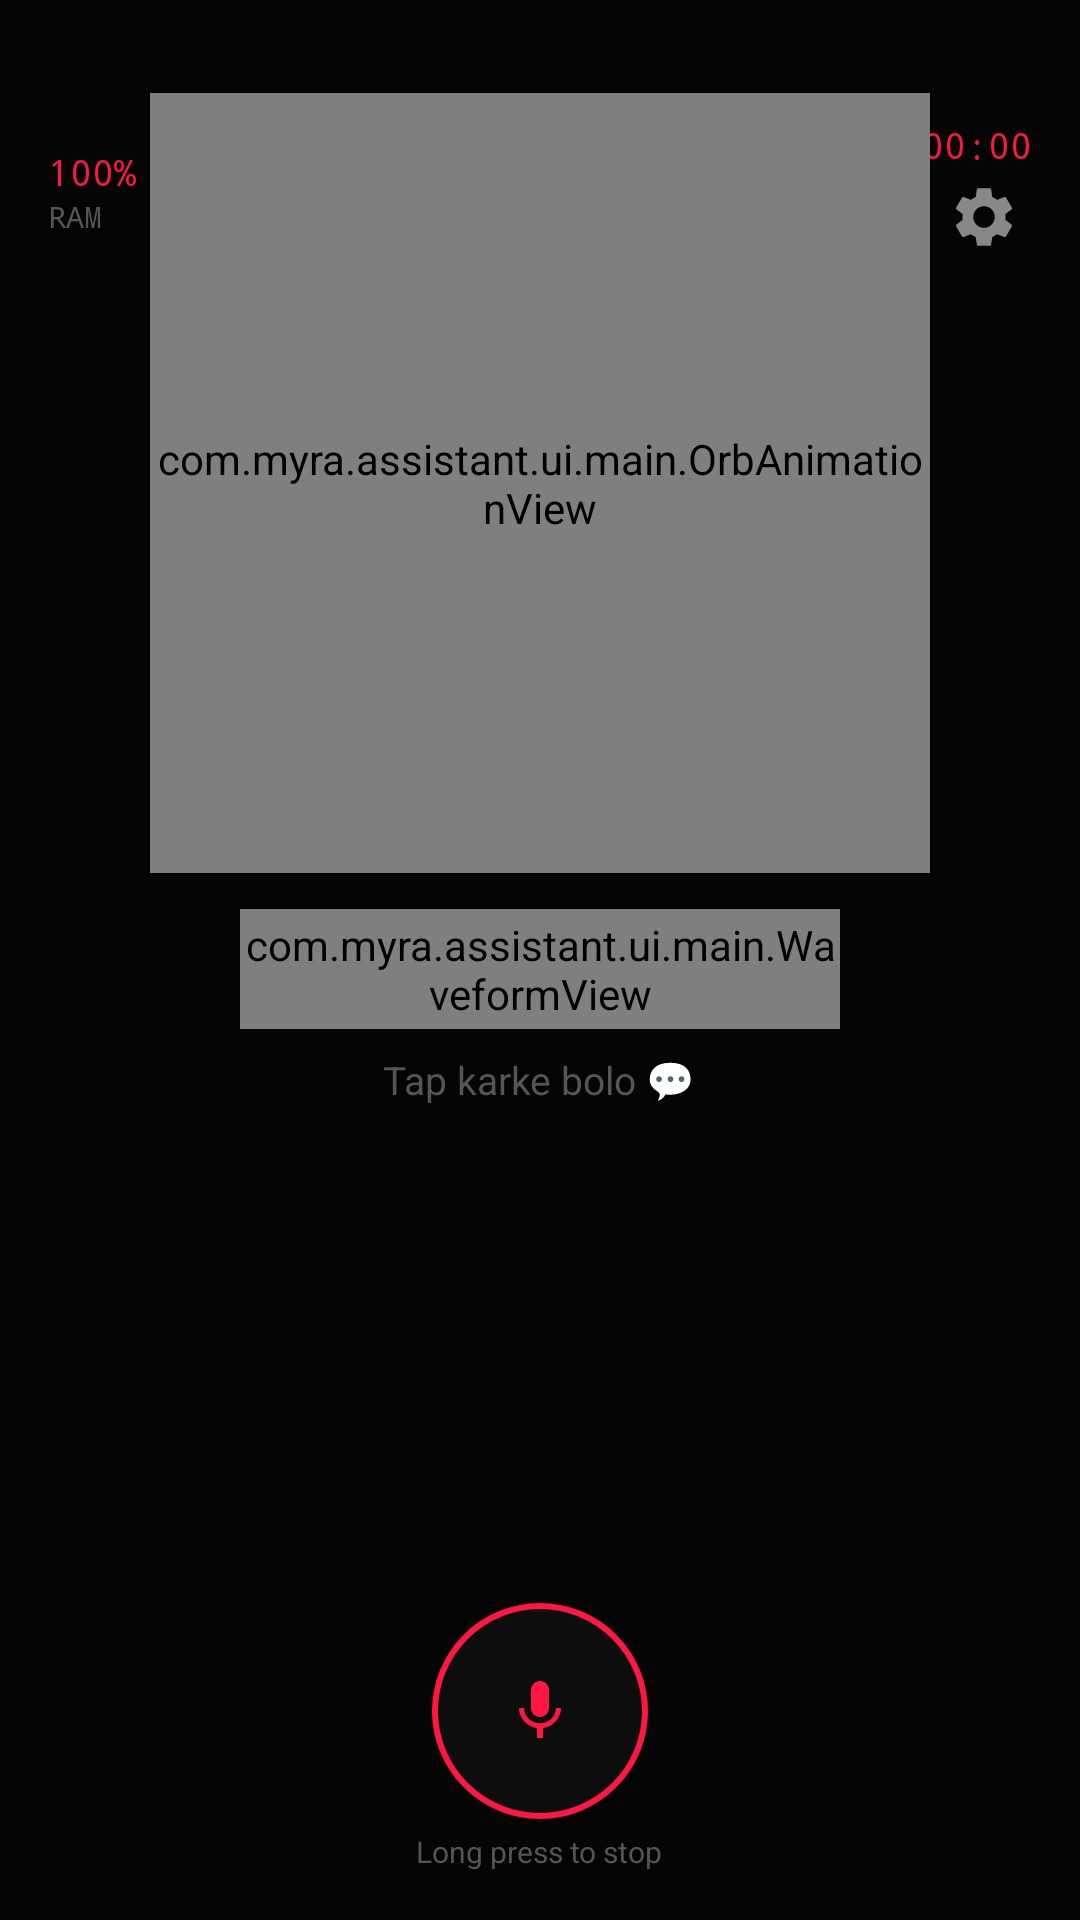

Where icons sit on this 1080×1920 app screen, as (x1, y1, x2, y2):
Mic: (432, 1603, 648, 1819)
settings: (956, 188, 1012, 246)
